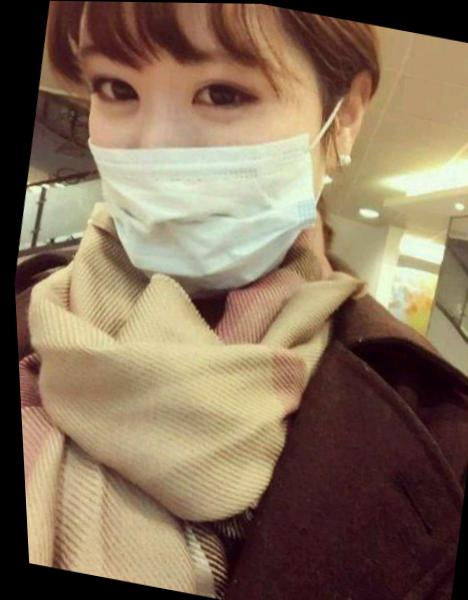OK: (36, 1, 349, 314)
